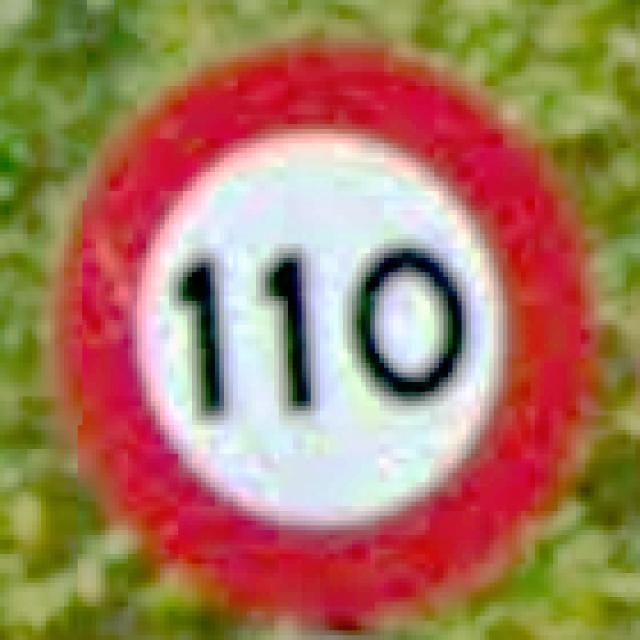max110: (46, 29, 603, 630)
